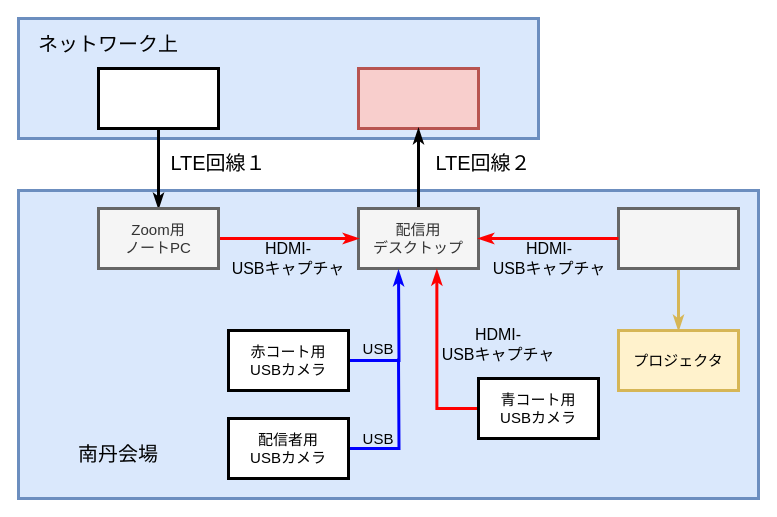
Some shapes in this 777 by 517 pixel diagram are drawn without their labels. The centre of each missing label's shape, as x and y in pixels:
"YouTube" goes at point (418, 98).
"タイマー用PC" goes at point (678, 238).
"大阪府立大学 MOZU" goes at point (158, 98).
